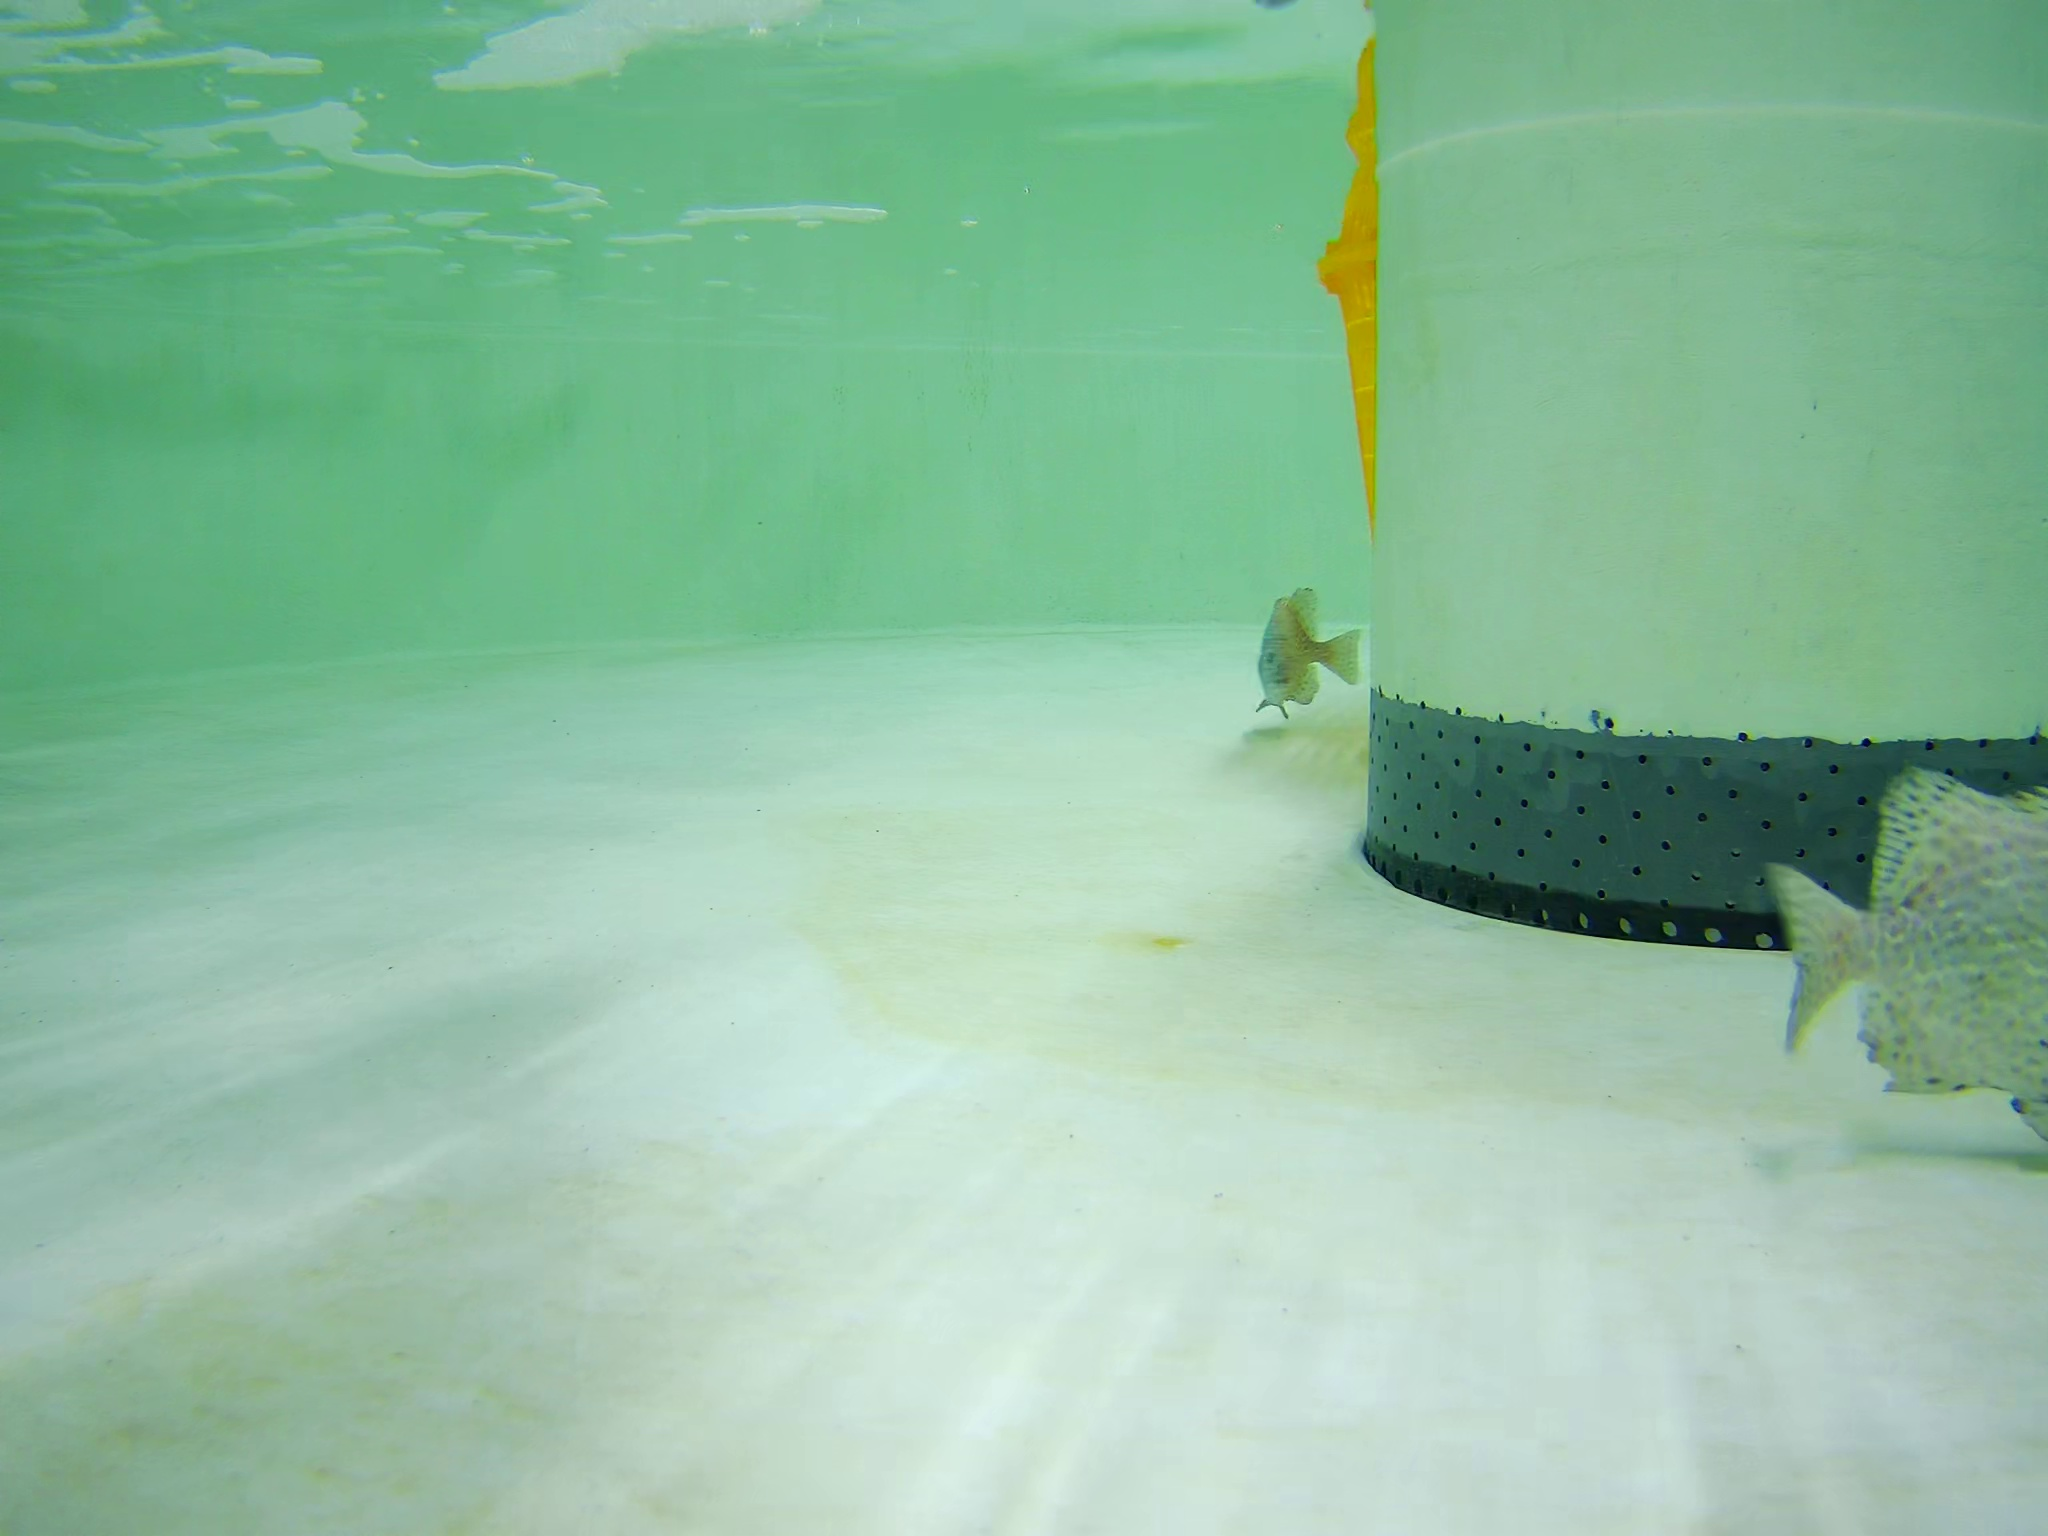fish: (1761, 760, 2048, 1118), (1247, 578, 1356, 713)
